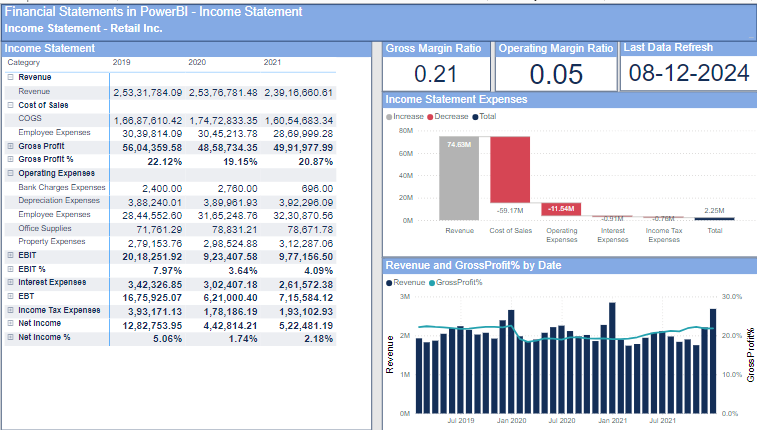

The page's visual inventory and layout, read from the dashboard file:
{"tool":"powerbi","page":{"name":"Income Statement","canvas":[1280,720],"ordinal":0},"visuals":[{"type":"shape","box":[0,0,1280,64],"z":0},{"type":"pivotTable","title":"Income Statement","fields":{"Rows":["Headers.Category","GLAccts.Subcategory"],"Columns":["DimDate.Year"],"Values":["FactGLTran.Income Statement"]},"box":[8,72,616,640],"z":1000},{"type":"card","title":"Gross Margin Ratio","fields":{"Values":["FactGLTran.Gross Margin Ratio"]},"box":[632,72,208,80],"z":2000},{"type":"card","title":"Operating Margin Ratio","fields":{"Values":["FactGLTran.Operating Margin Ratio"]},"box":[848,72,208,80],"z":3000},{"type":"card","title":"Last Data Refresh","fields":{"Values":["Min(LastDataRefresh.LastDataRefresh)"]},"box":[976,576,296,80],"z":4000},{"type":"lineStackedColumnComboChart","fields":{"Category":["DimDate.Date"],"Y":["FactGLTran.Revenue"],"Y2":["FactGLTran.Gross Profit Margin %"]},"box":[632,160,640,272],"z":5000},{"type":"waterfallChart","title":"Income Statement Expenses","fields":{"Category":["DimHeaders.Category"],"Y":["FactGLTran.Sign Flip"]},"box":[632,440,640,272],"z":6000},{"type":"textbox","box":[0,0,1280,64],"z":7000},{"type":"card","title":"Last Data Refresh","fields":{"Values":["Min(LastDataRefresh.LastDataRefresh)"]},"box":[1064,72,208,80],"z":8000}]}

Visuals, with their boxes in screenshot pixels (x1, y1, x2, y2), scaled from the page's 1280x720 canvas onto the 757x430 screenshot:
shape: [left=0, top=0, right=756, bottom=38]
"Income Statement" pivotTable: [left=5, top=43, right=369, bottom=425]
"Gross Margin Ratio" card: [left=374, top=43, right=497, bottom=91]
"Operating Margin Ratio" card: [left=502, top=43, right=625, bottom=91]
"Last Data Refresh" card: [left=577, top=344, right=752, bottom=392]
lineStackedColumnComboChart - DimDate.Date x FactGLTran.Revenue: [left=374, top=96, right=752, bottom=258]
"Income Statement Expenses" waterfallChart: [left=374, top=263, right=752, bottom=425]
textbox: [left=0, top=0, right=756, bottom=38]
"Last Data Refresh" card: [left=629, top=43, right=752, bottom=91]
